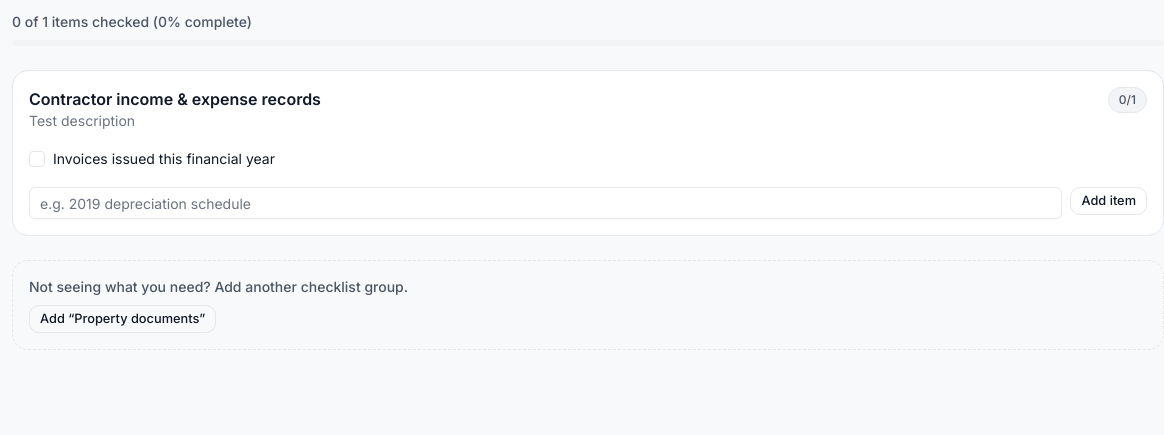
Test: ChecklistsClient › reveals a hidden group's items via the 'add other groups' affordance
What coordinates should you click on to do the following:
click the button "Add “Property documents”"
I would click on:
 (123, 319)
Its box is [29,305,216,333].
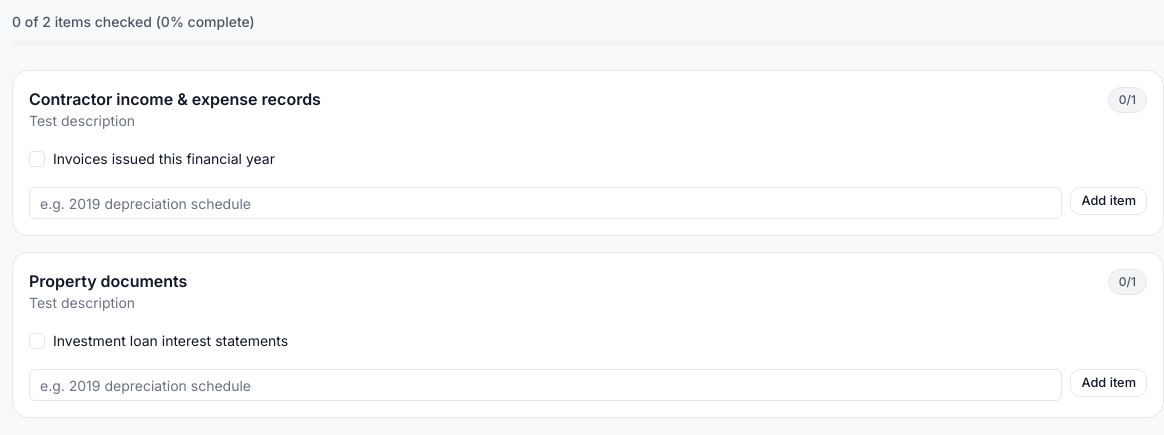
Check: the text "Investment loan interest statements" is shown, box [53,331,288,351]
